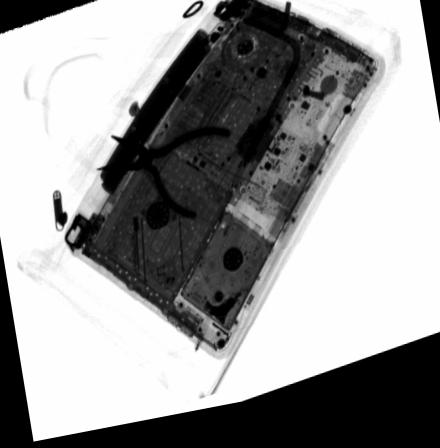Pliers: (96, 132, 232, 229)
